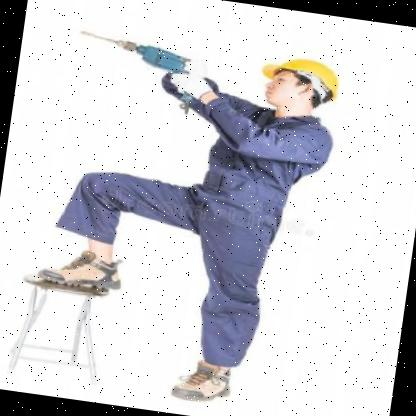bota: (35, 244, 126, 295), (168, 350, 238, 408)
capacete: (258, 49, 342, 122)
